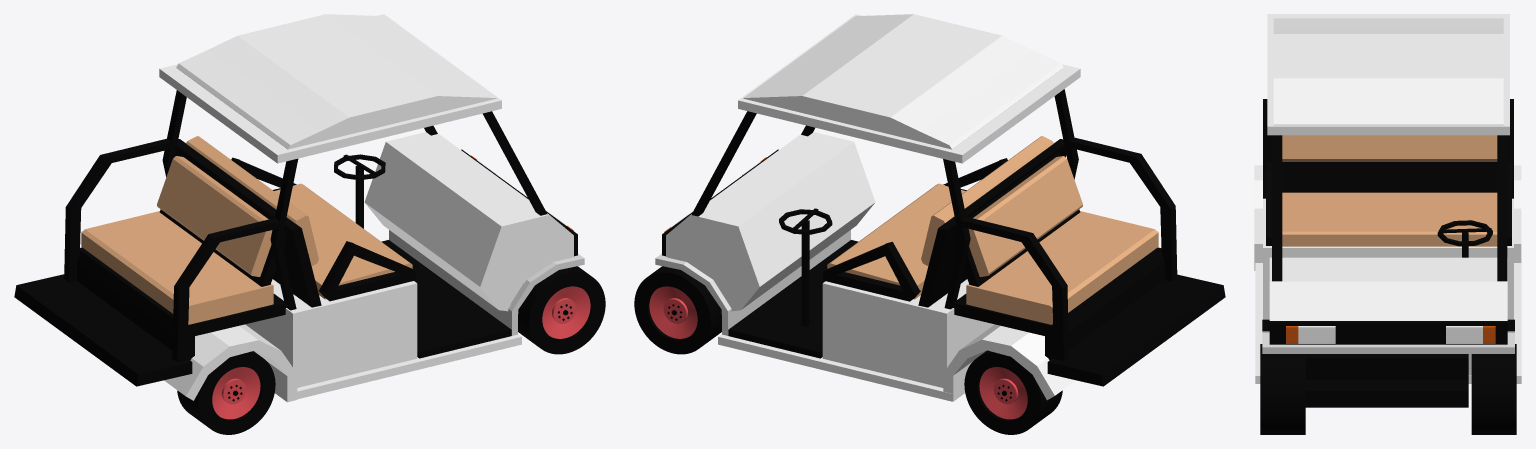
Rendered from golfcart.glb.
3 renders of one model, left to right at view 1: azimuth 30°, elevation 25°; view 2: azimuth 150°, elevation 25°; view 3: azimuth 270°, elevation 25°, orthographic. The views are drawn at different scales.
Visible parts, largest first — view 1: Cube.015, Console, Cube.001, Seat.002, Cube.024, Seat.003, FrontRightWheel, Cube.013, Floor, RearRightWheel, Seat, BackWheelCover (+16 smaller); view 2: Cube.015, Console, Cube.001, Seat.002, Cube.024, Seat.003, FrontLeftWheel, Cube.013, RearLeftWheel, Floor, Seat, BackWheelCover (+17 smaller); view 3: Cube.015, Console, Seat, Front_staircase, Cube.012, Seat.001, Cube.013, Bumper, Cube.001, FrontRightWheel, FrontLeftWheel, FrontWheelCover (+9 smaller).
Boxes of the visible parts, bbox=[...] form: Cube.015: bbox=[176, 14, 496, 149]; Console: bbox=[364, 132, 573, 311]; Cube.001: bbox=[245, 279, 417, 387]; Seat.002: bbox=[81, 211, 273, 324]; Cube.024: bbox=[14, 274, 192, 386]; Seat.003: bbox=[157, 156, 272, 276]; FrontRightWheel: bbox=[518, 266, 605, 354]; Cube.013: bbox=[159, 14, 501, 163]; Floor: bbox=[381, 240, 511, 358]; RearRightWheel: bbox=[177, 351, 275, 434]; Seat: bbox=[274, 183, 412, 299]; BackWheelCover: bbox=[164, 324, 297, 402]; Cube.015: bbox=[743, 14, 1063, 149]; Console: bbox=[666, 132, 875, 311]; Cube.001: bbox=[822, 279, 994, 387]; Seat.002: bbox=[966, 211, 1158, 324]; Cube.024: bbox=[1047, 274, 1225, 386]; Seat.003: bbox=[968, 156, 1082, 276]; FrontLeftWheel: bbox=[634, 266, 721, 354]; Cube.013: bbox=[738, 14, 1080, 163]; RearLeftWheel: bbox=[964, 350, 1062, 434]; Floor: bbox=[728, 240, 858, 358]; Seat: bbox=[827, 183, 965, 299]; BackWheelCover: bbox=[943, 324, 1075, 401]; Cube.015: bbox=[1273, 18, 1503, 125]; Console: bbox=[1269, 257, 1507, 320]; Seat: bbox=[1282, 192, 1497, 246]; Front_staircase: bbox=[1305, 354, 1468, 407]; Cube.012: bbox=[1263, 99, 1513, 198]; Seat.001: bbox=[1282, 135, 1497, 161]; Cube.013: bbox=[1267, 14, 1509, 135]; Bumper: bbox=[1269, 321, 1507, 344]; Cube.001: bbox=[1263, 198, 1513, 319]; FrontRightWheel: bbox=[1260, 344, 1305, 434]; FrontLeftWheel: bbox=[1471, 344, 1516, 434]; FrontWheelCover: bbox=[1262, 331, 1514, 375].
Bounding box in the file's own units: 7.53 × 4.35 × 3.63.
